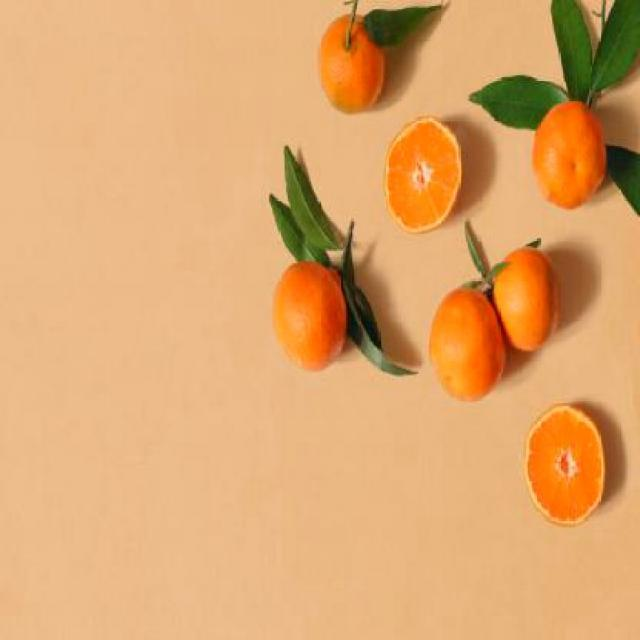Jeruk Sudah Matang: (534, 100, 610, 218), (428, 285, 504, 403), (274, 260, 351, 372), (313, 13, 389, 122), (496, 248, 558, 350)
